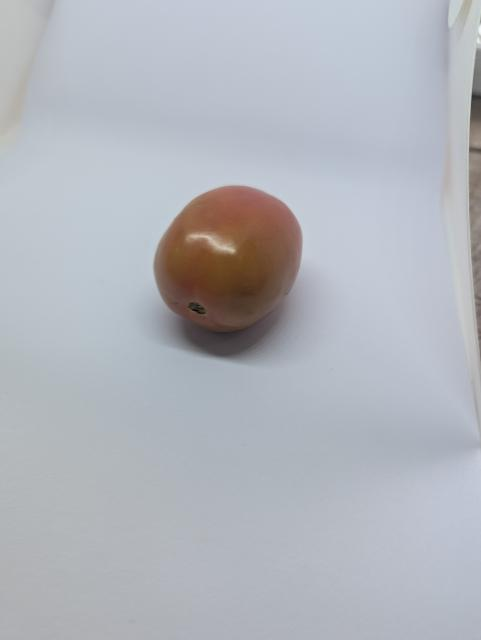turning: (147, 179, 313, 340)
